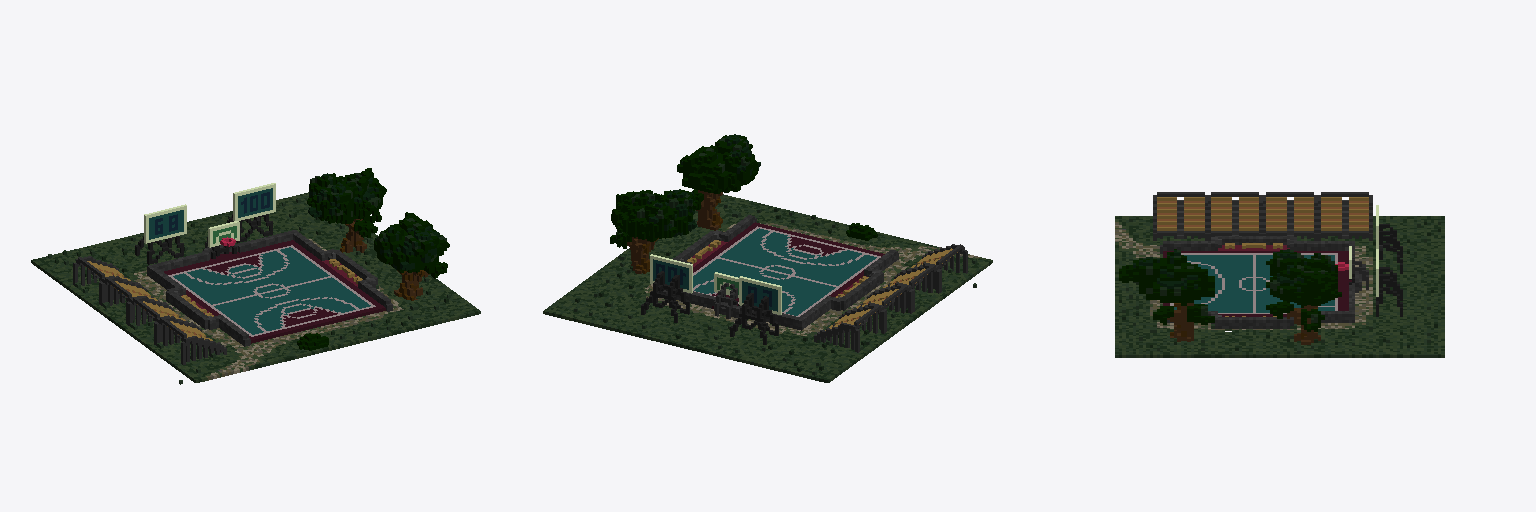
3 renders of one model, left to right at view 1: azimuth 30°, elevation 25°; view 2: azimuth 150°, elevation 25°; view 3: azimuth 270°, elevation 25°, orthographic.
Parts seen in each view (by area): view 1: object 1; view 2: object 1; view 3: object 1.
Boxes of the visible parts, box(x1,y1,x2,y2) form: object 1: box(31, 168, 480, 384); object 1: box(543, 134, 992, 382); object 1: box(1115, 192, 1444, 357).
Bounding box in the file's own units: 9.6 × 2.9 × 9.6.
1 materials, 1 textured.